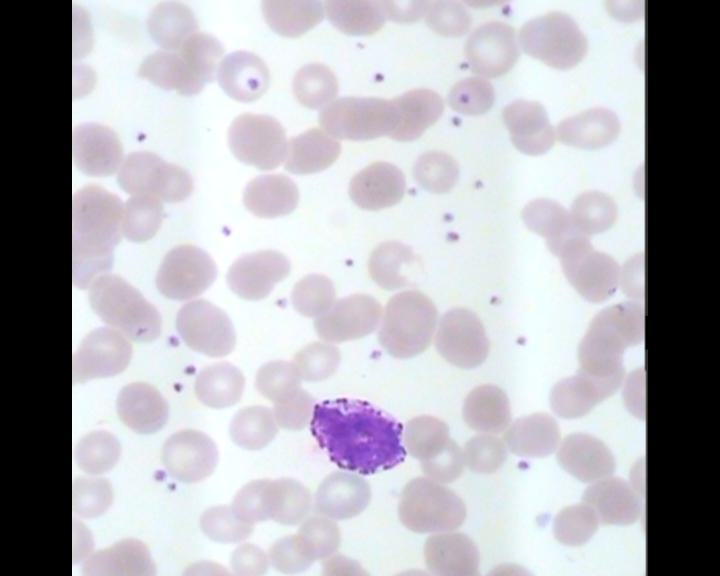baso: (306, 389, 407, 478)
